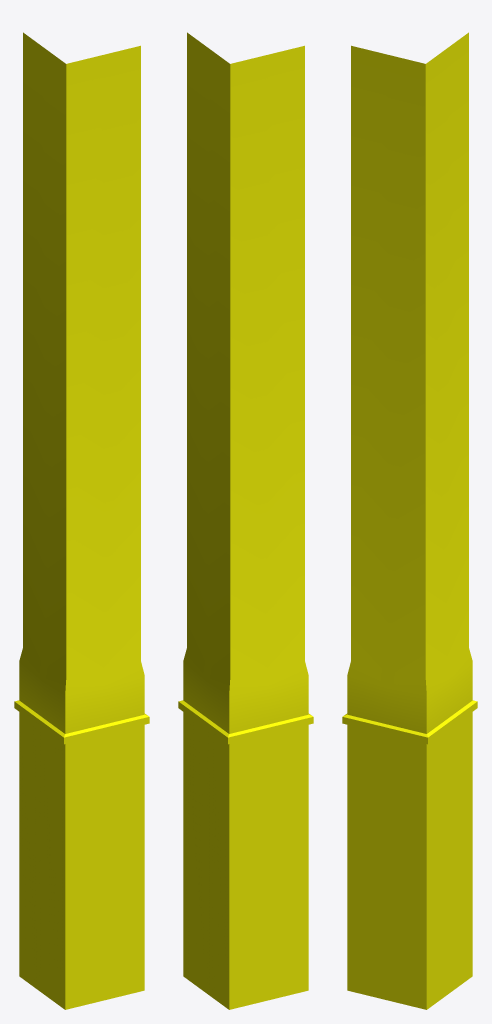
File: metal-column-small-bottom.glb
3 views of the same model, side by side, from view 1: azimuth 30°, elevation 25°; view 2: azimuth 210°, elevation 25°; view 3: azimuth 330°, elevation 25° (orthographic).
Visible parts, largest first — view 1: Metal_Column_Small_Bottom; view 2: Metal_Column_Small_Bottom; view 3: Metal_Column_Small_Bottom.
Part boxes in pixels (x1,y1,x2,y2): Metal_Column_Small_Bottom: [14, 32, 149, 1009]; Metal_Column_Small_Bottom: [178, 32, 313, 1009]; Metal_Column_Small_Bottom: [342, 32, 477, 1009].
Bounding box in the file's own units: 0.2845 × 3 × 0.2847.
1 material, 1 textured.
